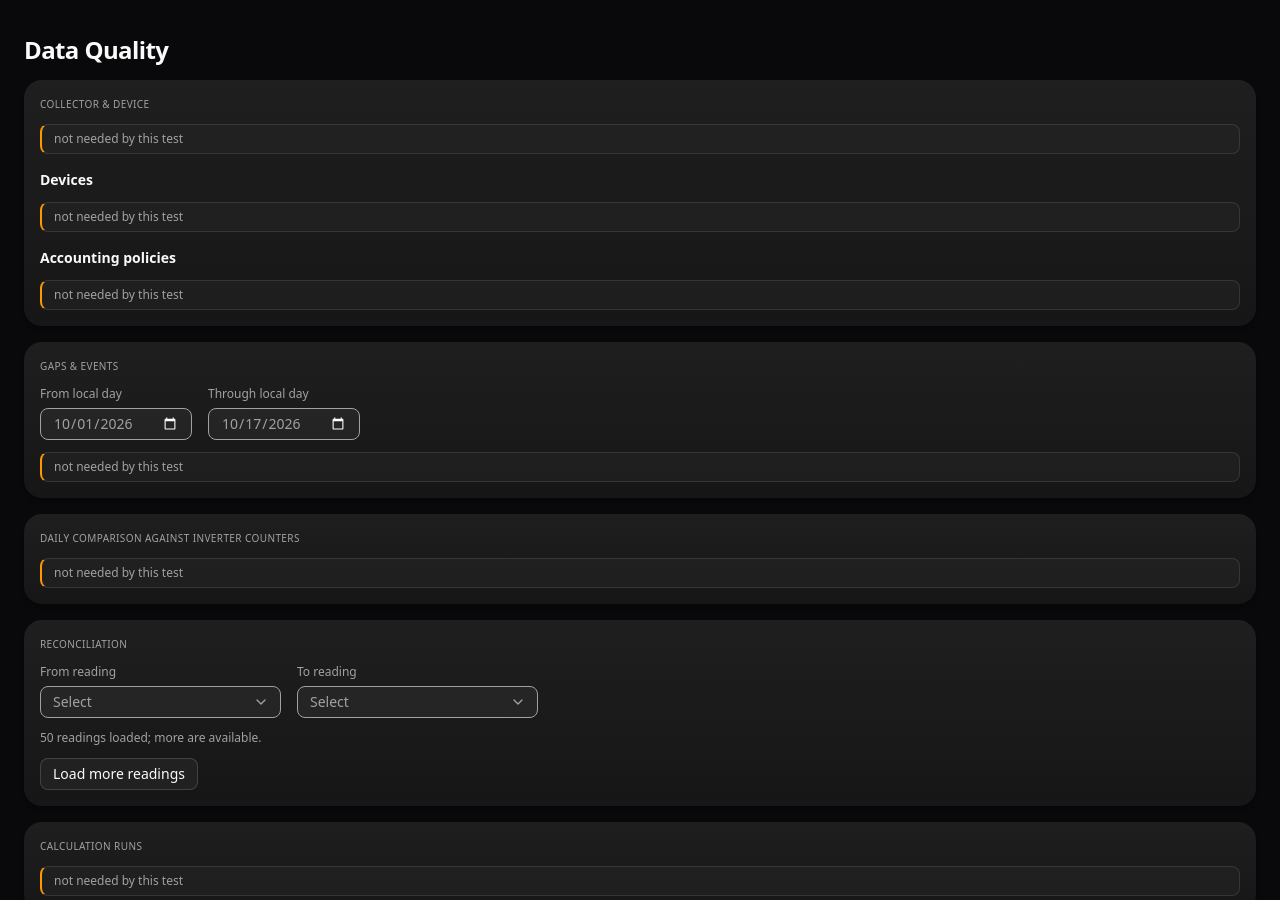
it: DataQuality meter reading selection › preserves loaded readings after a failed page and retries the same cursor successfully
Click the button "Load more readings" at (119, 774), box x1=40 y1=758 x2=198 y2=790
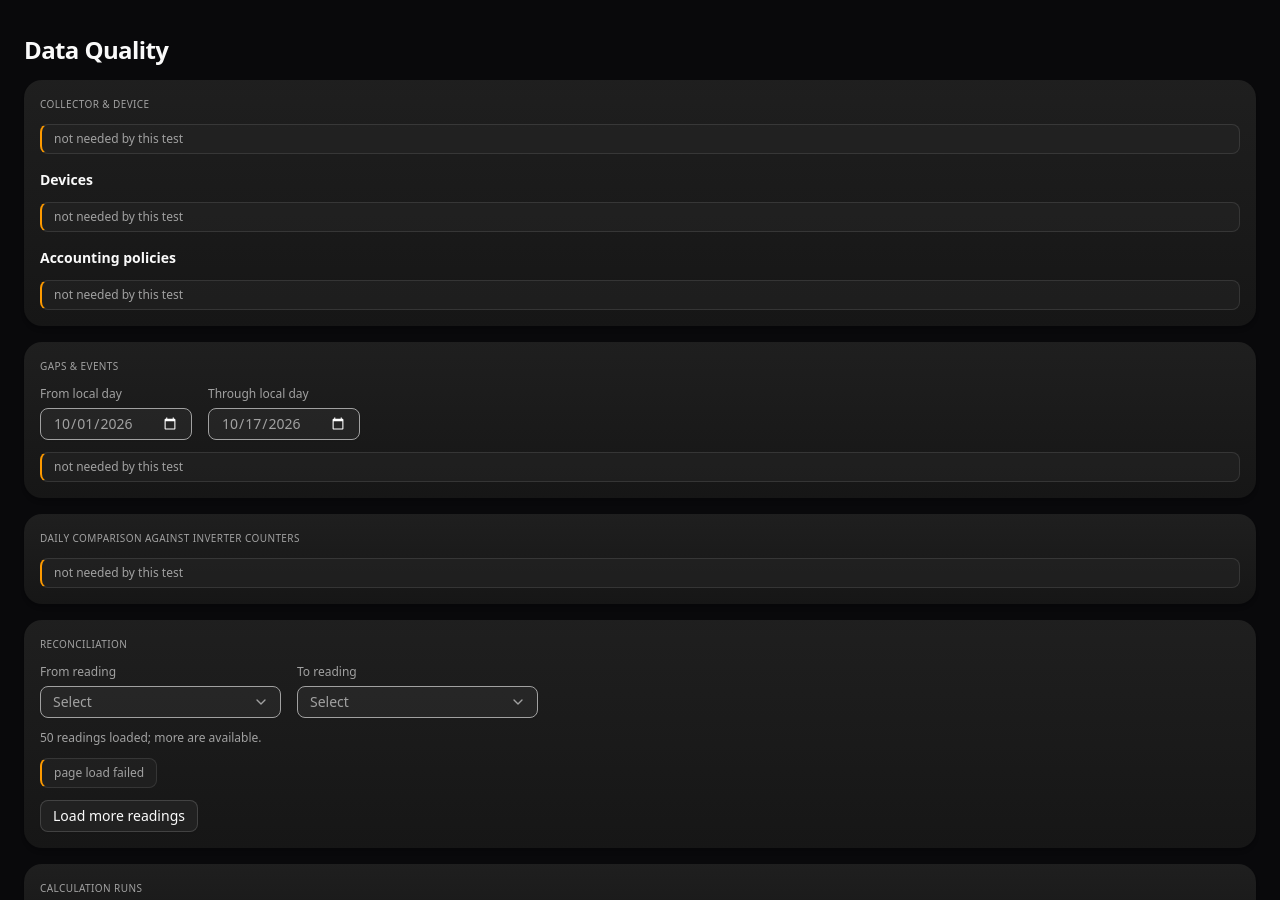
Check: the text "page load failed" is shown, box x1=40 y1=758 x2=157 y2=788
Click the button "Load more readings" at (119, 816), box x1=40 y1=800 x2=198 y2=832
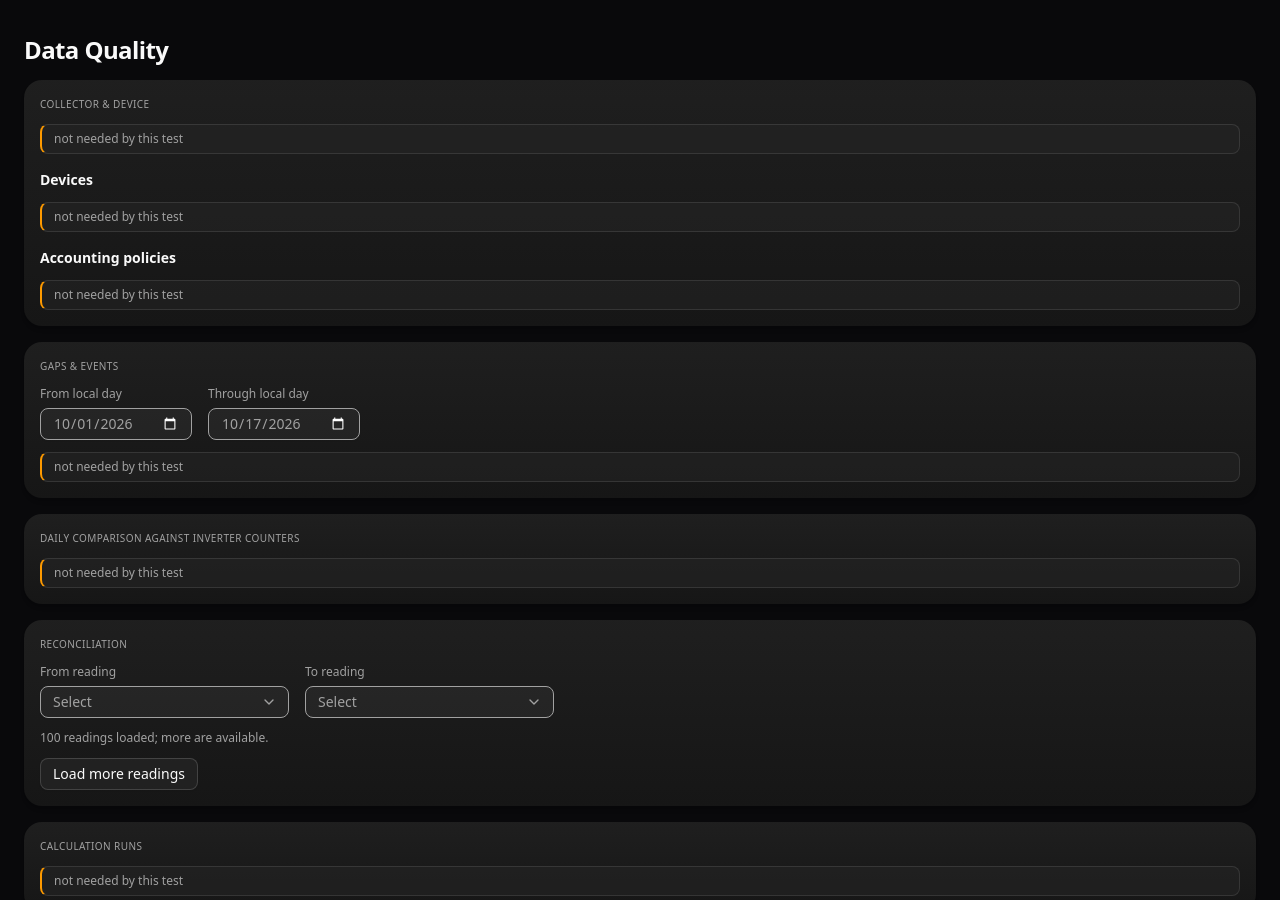
Check: the text "page load failed" is gone
Click the button "Load more readings" at (119, 774), box x1=40 y1=758 x2=198 y2=790
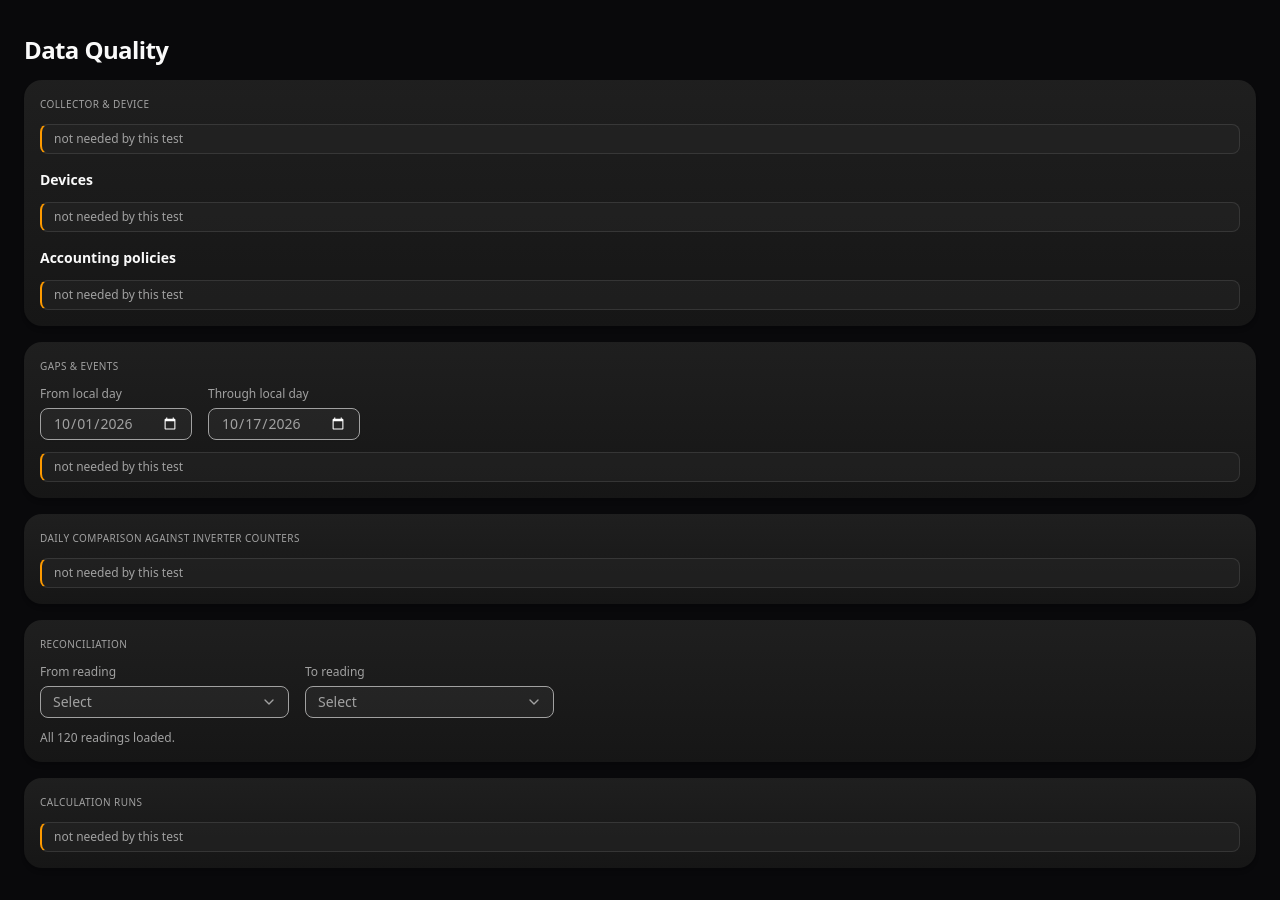
Check: the button "Load more readings" is gone
